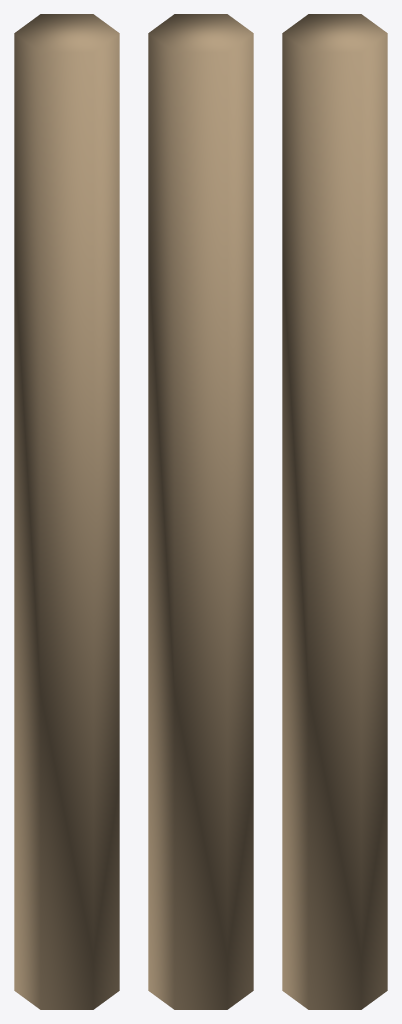
Rendered from mwm_rope.glb.
3 views of the same model, side by side, from view 1: azimuth 90°, elevation 25°; view 2: azimuth 150°, elevation 25°; view 3: azimuth 270°, elevation 25° (orthographic).
Parts seen in each view (by area): view 1: Cylinder; view 2: Cylinder; view 3: Cylinder.
Boxes of the visible parts, x1,y1,x2,y2 form: Cylinder: (14, 14, 119, 1009); Cylinder: (148, 14, 253, 1009); Cylinder: (282, 14, 387, 1009).
Bounding box in the file's own units: 0.0866 × 1 × 0.1.
